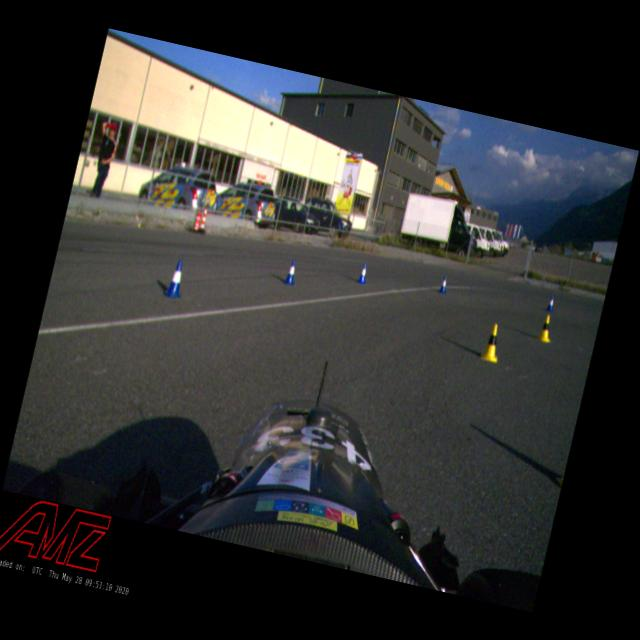blue_cone: (164, 258, 188, 298), (283, 258, 299, 286), (356, 262, 369, 284), (438, 274, 449, 294), (544, 294, 556, 312)
yellow_cone: (480, 322, 505, 363), (536, 312, 556, 342)
